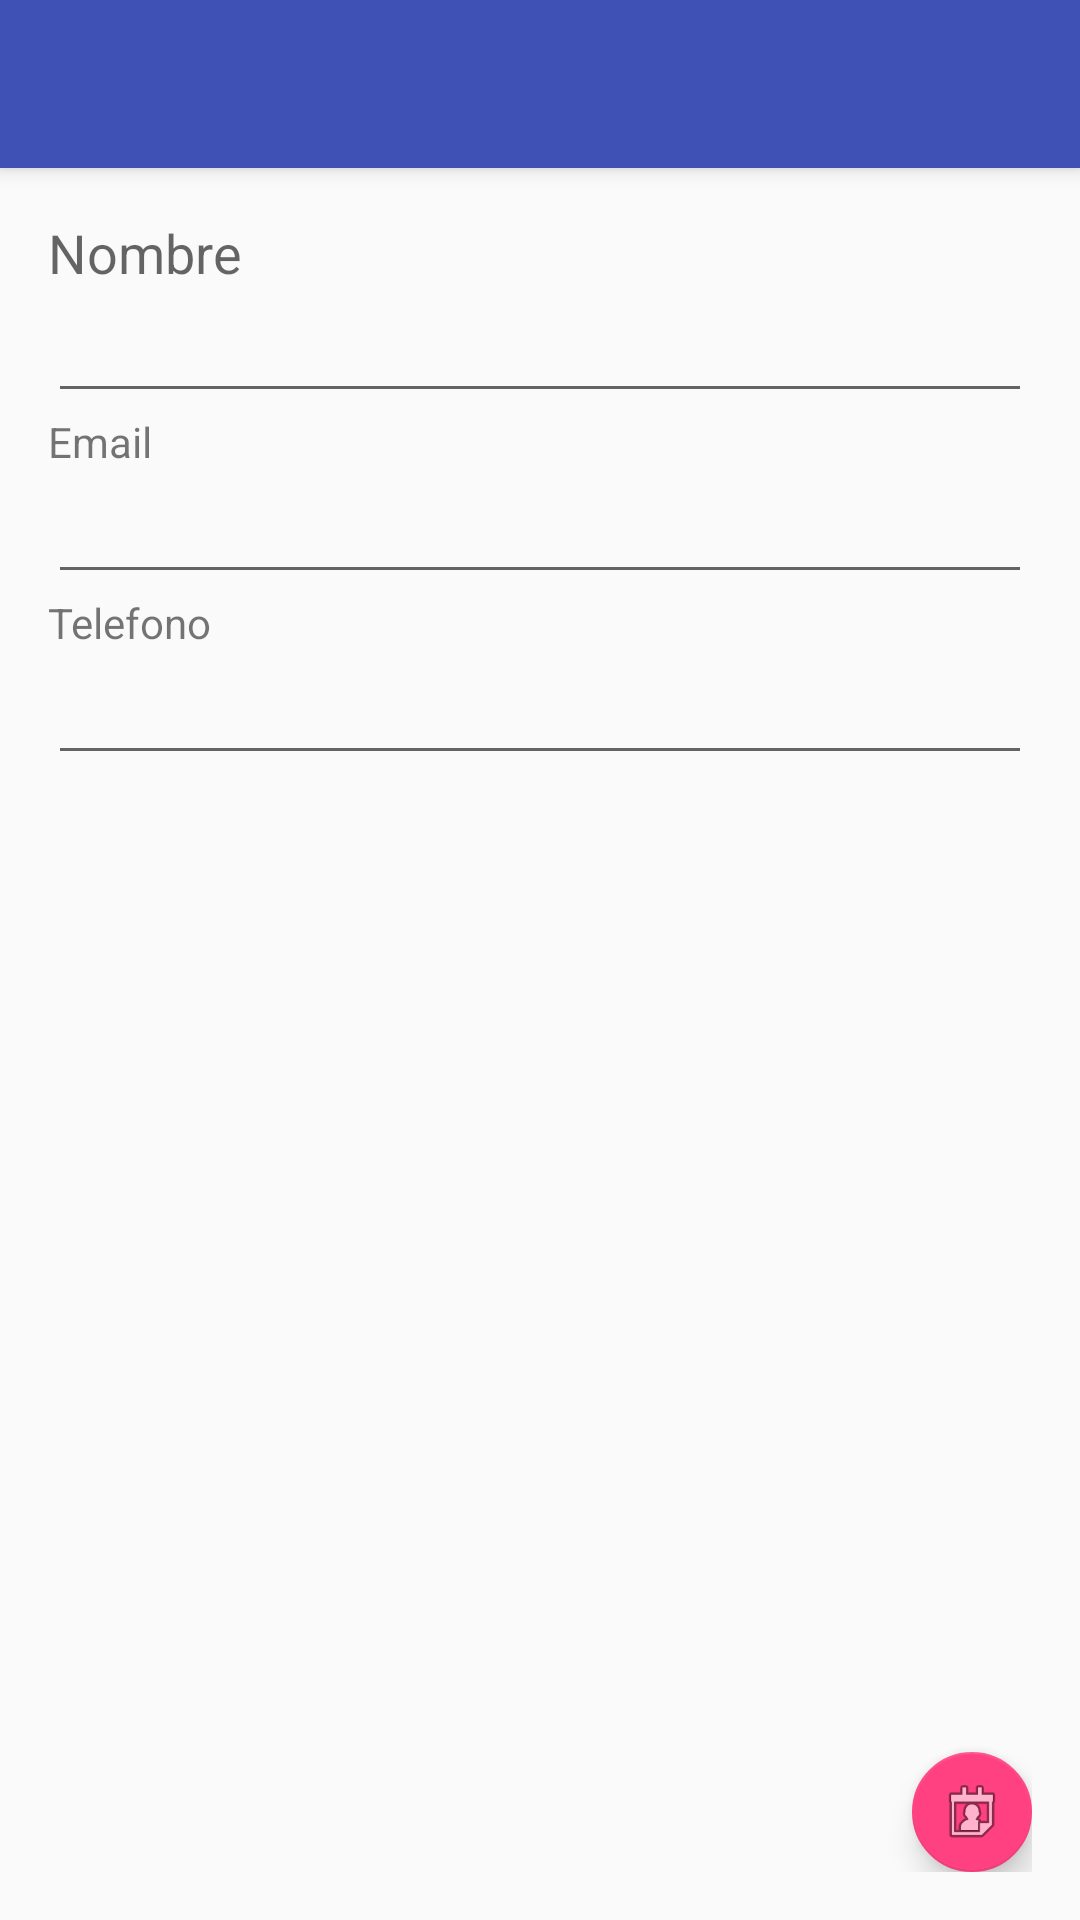

Named icons in this screenshot (1080px x 1920px) and their centers, point (x, y):
calendar: point (972, 1812)
